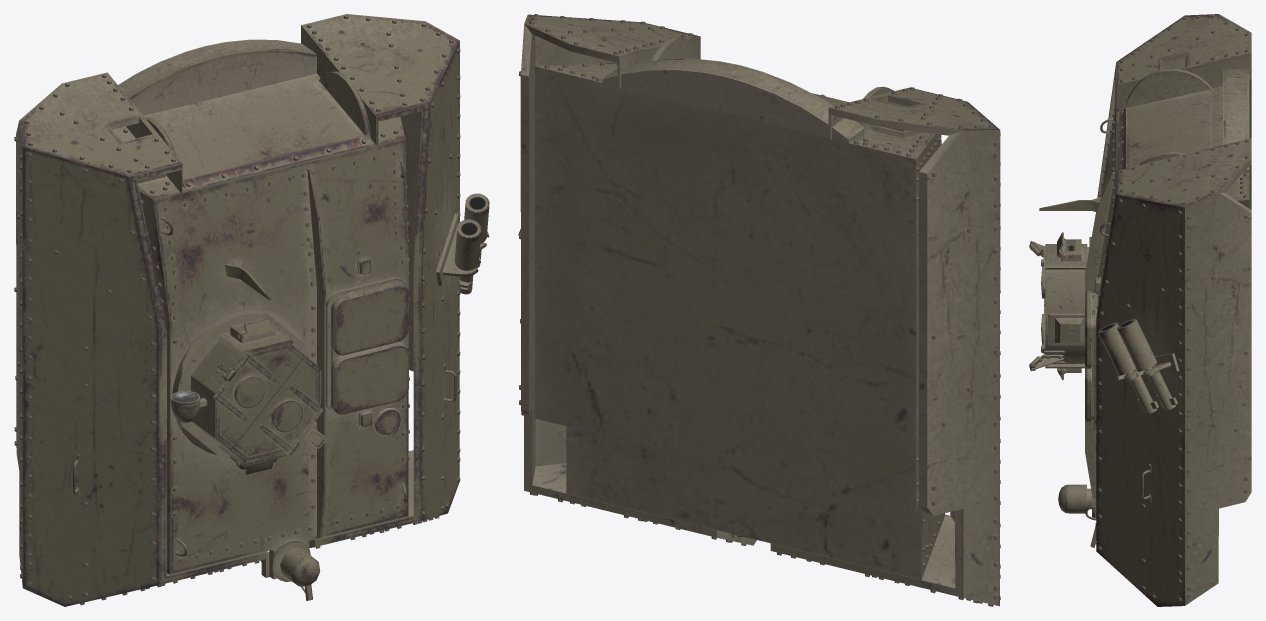
Rendered from Turret_02.glb.
3 renders of one model, left to right at view 1: azimuth 30°, elevation 25°; view 2: azimuth 150°, elevation 25°; view 3: azimuth 270°, elevation 25°, orthographic. The views are drawn at different scales.
Visible parts, largest first — view 1: set_0_group_0; view 2: set_0_group_0; view 3: set_0_group_0.
Boxes of the visible parts, x1=… form: set_0_group_0: x1=14, y1=14, x2=489, y2=606; set_0_group_0: x1=518, y1=14, x2=1000, y2=606; set_0_group_0: x1=1029, y1=14, x2=1251, y2=606.
Size of the model in its own units: 2.16 by 2.27 by 1.02.
Materials: 1 (1 with a texture image).
